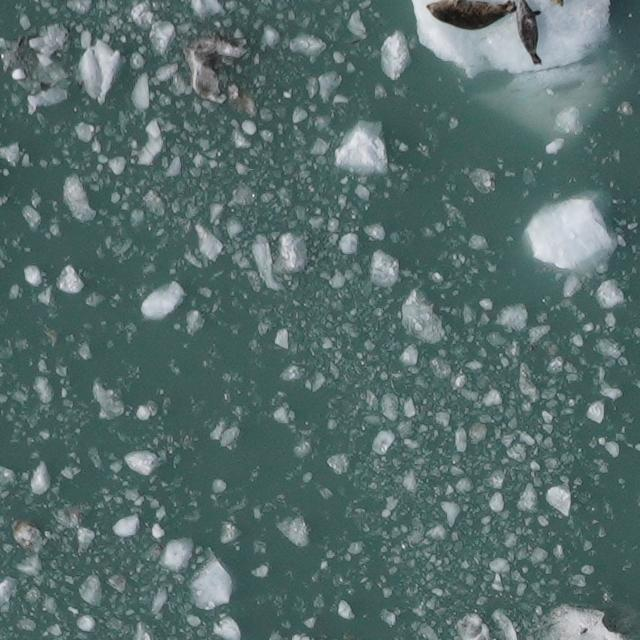seal: (423, 0, 522, 32), (513, 0, 546, 68)
